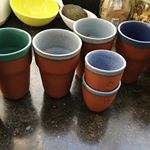cups: (32, 27, 83, 101), (1, 26, 33, 100), (84, 47, 128, 93)
